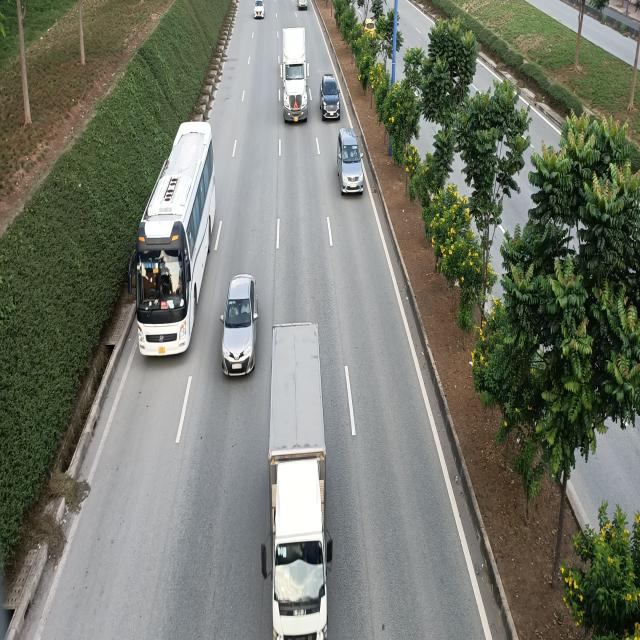car: (218, 276, 257, 380), (338, 129, 366, 196), (319, 73, 342, 121)
coach: (130, 120, 215, 359)
container: (279, 27, 309, 124)
truck: (263, 319, 335, 636)
